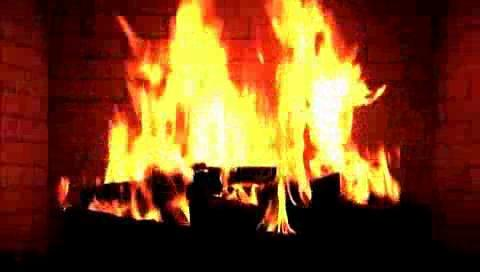fire: (102, 11, 389, 221)
